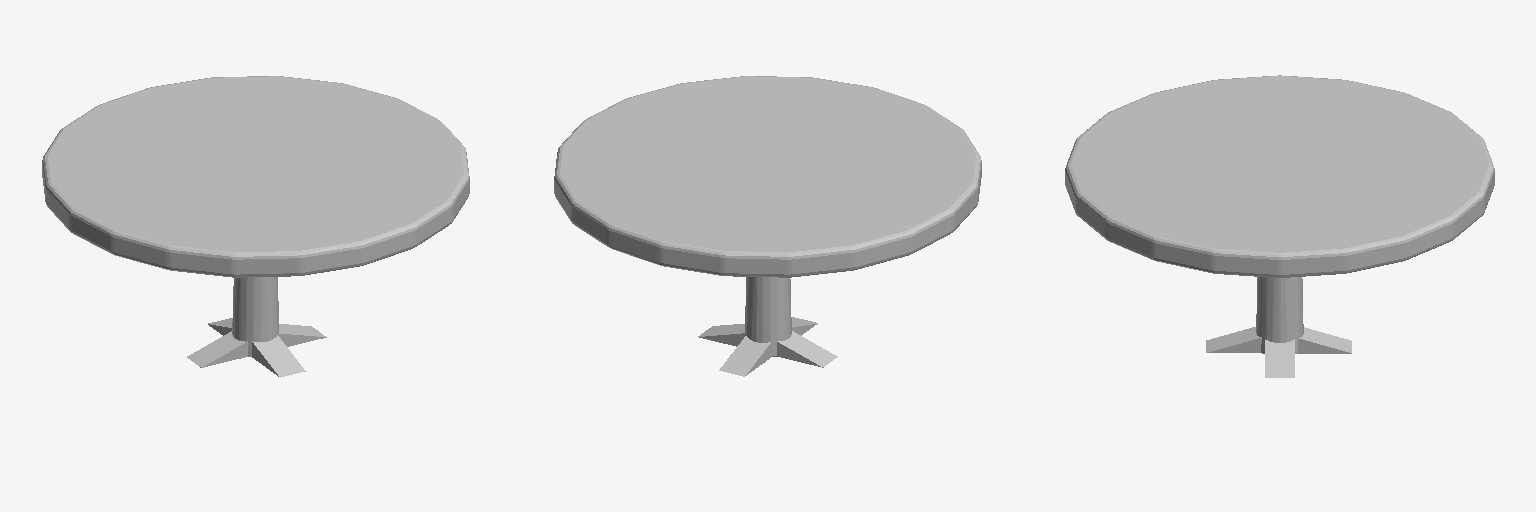
File: mesa.obj
The picture shows the model from 3 angles: view 1: azimuth 30°, elevation 25°; view 2: azimuth 150°, elevation 25°; view 3: azimuth 270°, elevation 25°; orthographic projection.
Visible parts, largest first — view 1: pCylinder3; view 2: pCylinder3; view 3: pCylinder3.
Part boxes in pixels (x1,y1,x2,y2): pCylinder3: (42, 76, 469, 377); pCylinder3: (554, 76, 981, 376); pCylinder3: (1065, 75, 1494, 377).
Bounding box in the file's own units: 5.33 × 2.51 × 5.33.